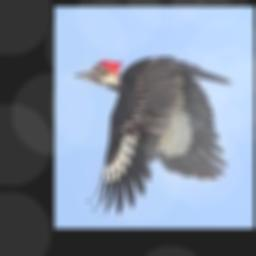Woodpecker: (75, 55, 236, 213)
